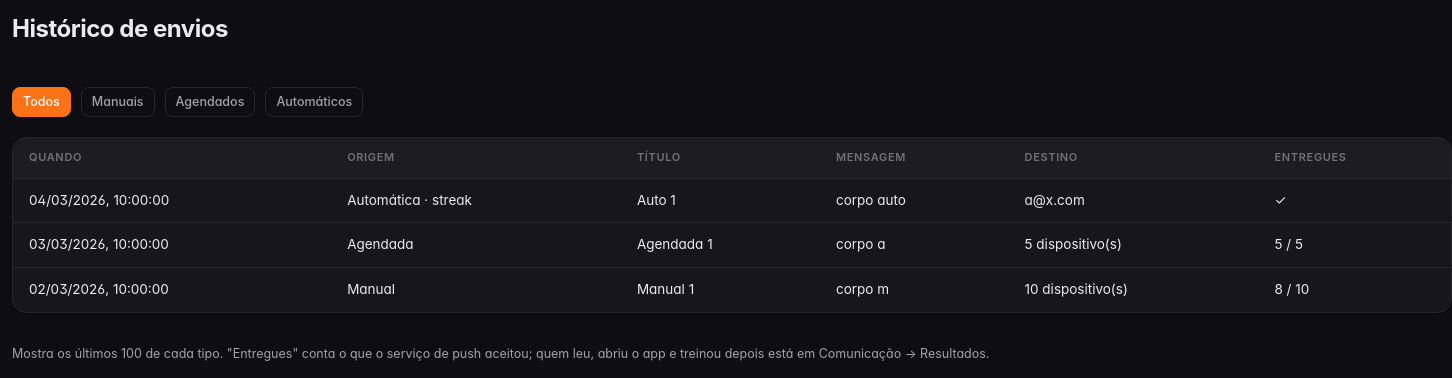
Scenario: BroadcastHistory › filtra por origem
Expected: the text "Auto 1" is shown, [621,179,820,224]
Click the button "Agendados" at (210, 102), box [164,87,255,117]
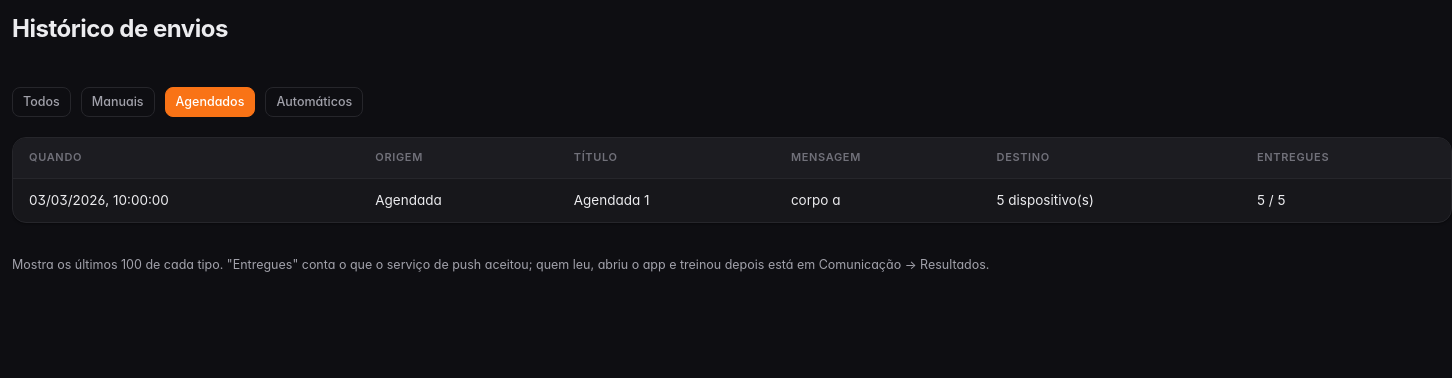
Expected: the text "Agendada 1" is shown, [558,179,775,222]
Now the text "Manual 1" is gone
Now the text "Auto 1" is gone
